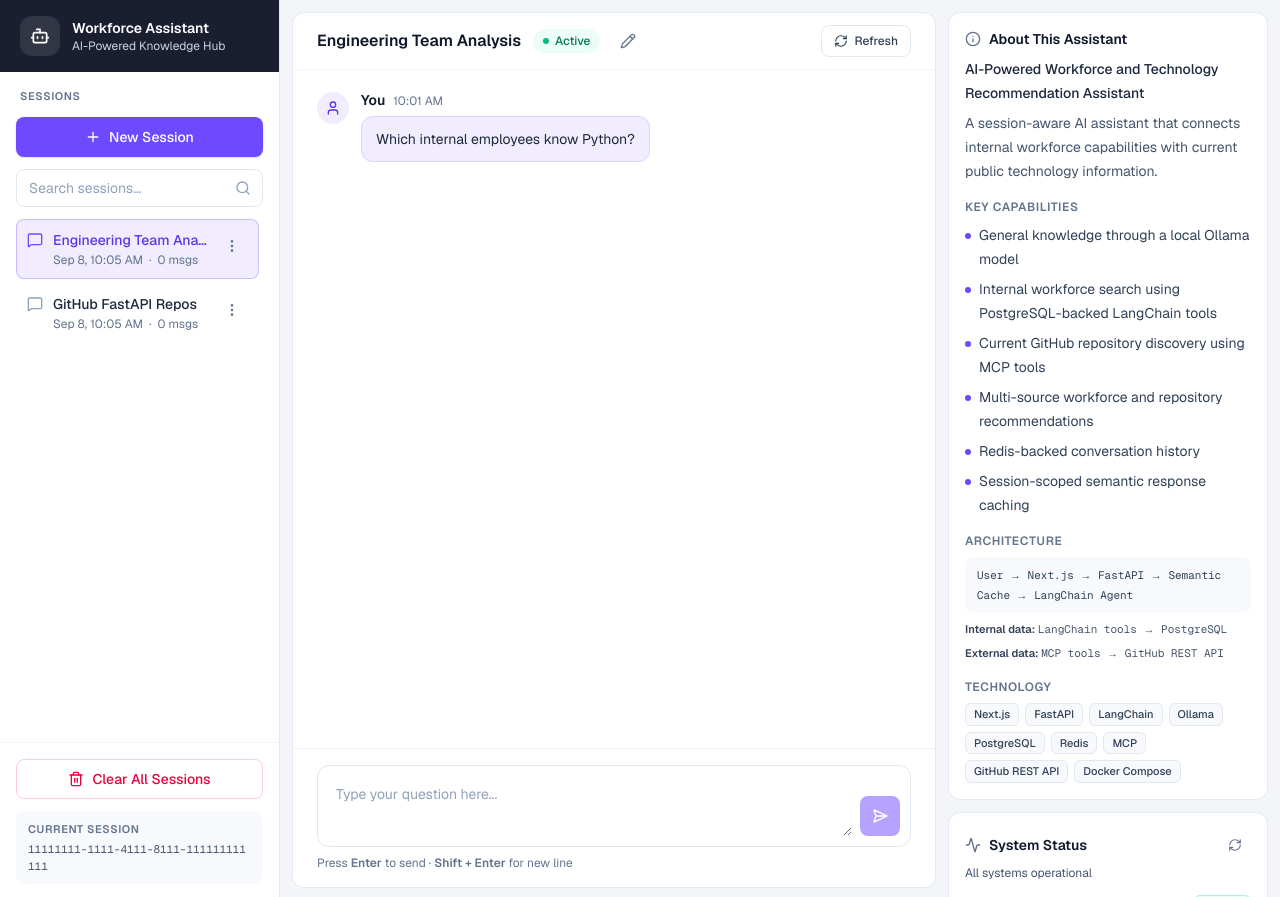
Scenario: WorkspaceScreen › switches to another session and loads its own history
This screenshot has width=1280, height=897.
Check: the text "Which internal employees know Python?" is shown, box [376,127,635,151]
What coordinates should you click on to do the following:
click the button "GitHub FastAPI Repos Sep 8, 10:05 AM · 0 msgs"
I would click on:
 (118, 312)
Its box is [27,294,208,332].
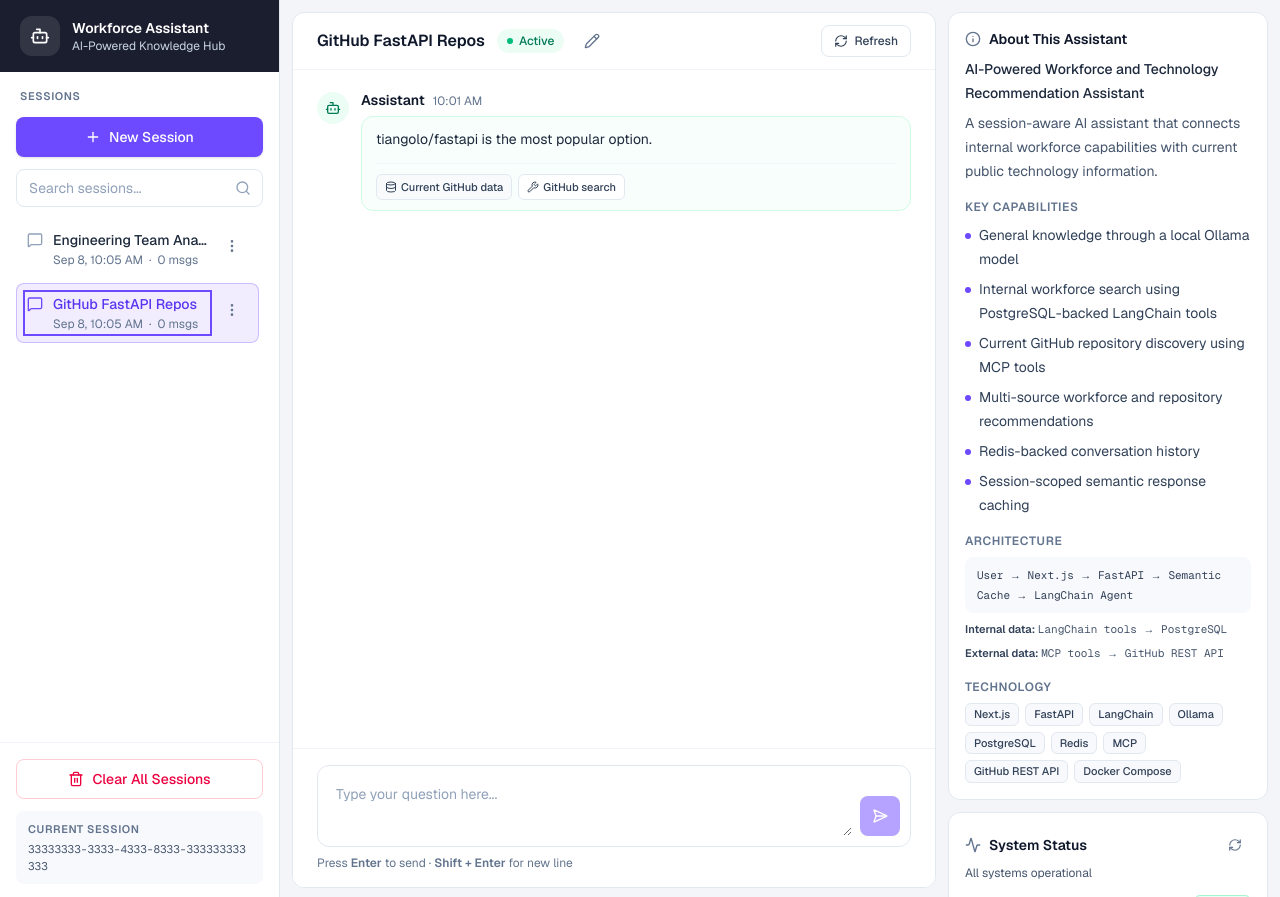
Check: the text "tiangolo/fastapi is the most popular option." is shown, box [376,130,652,148]
Check: the text "Current GitHub data" is shown, box [376,174,512,200]
Check: the text "Which internal employees know Python?" is gone
